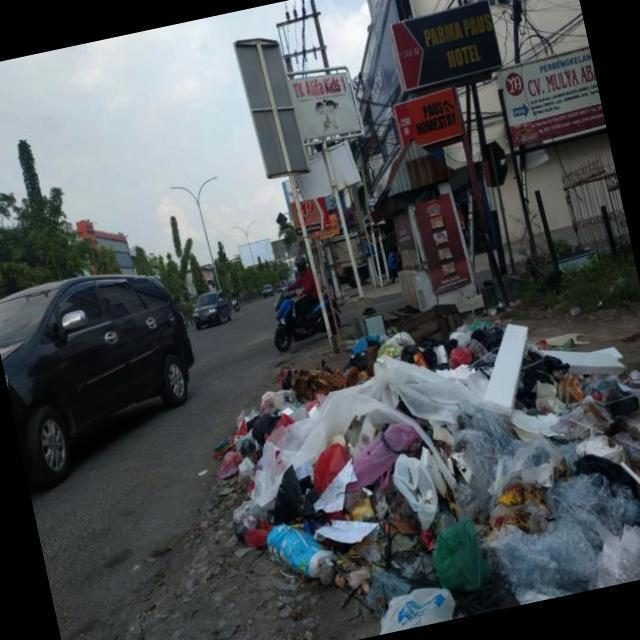garbage: (195, 273, 640, 640)
